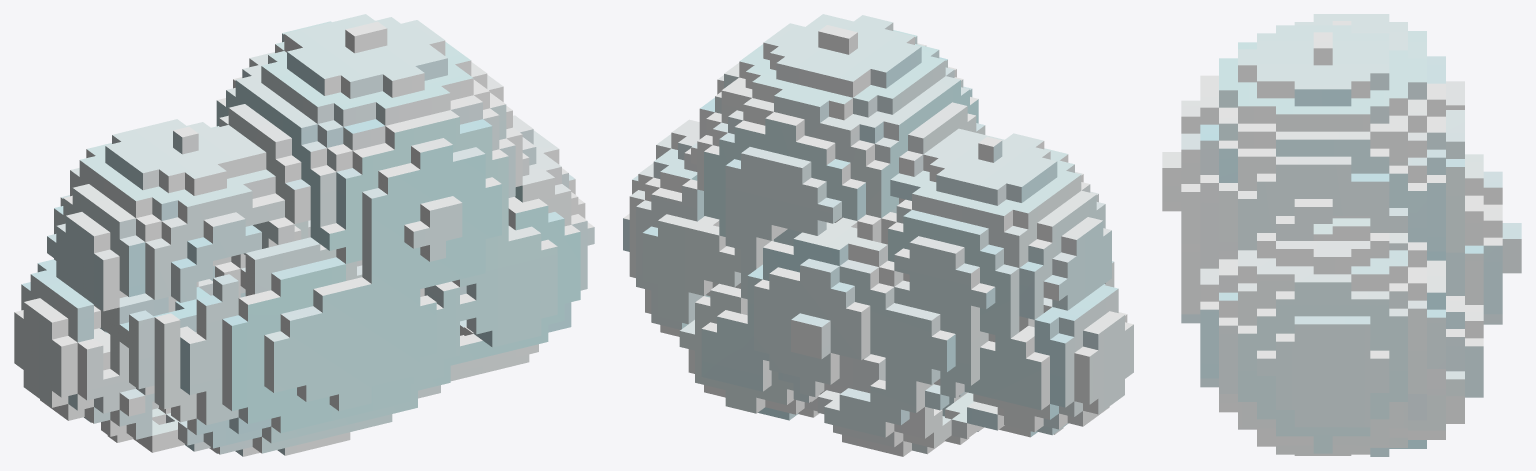
The model's file is cloud.fbx.
3 renders of one model, left to right at view 1: azimuth 30°, elevation 25°; view 2: azimuth 150°, elevation 25°; view 3: azimuth 270°, elevation 25°, orthographic. The views are drawn at different scales.
Visible parts, largest first — view 1: Sphere.009; view 2: Sphere.009; view 3: Sphere.009.
Boxes of the visible parts, x1=… form: Sphere.009: x1=14, y1=14, x2=594, y2=456; Sphere.009: x1=623, y1=14, x2=1133, y2=456; Sphere.009: x1=1162, y1=14, x2=1521, y2=456.
Bounding box in the file's own units: 486 × 345 × 298.
